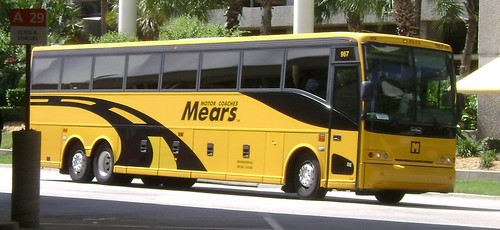bus: (28, 30, 456, 203)
